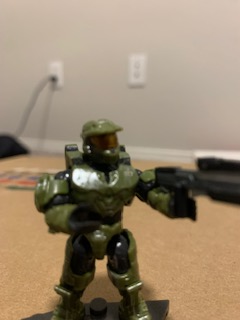chief: (37, 119, 199, 320)
rifle: (155, 152, 240, 217)
spartan: (35, 117, 197, 318)
